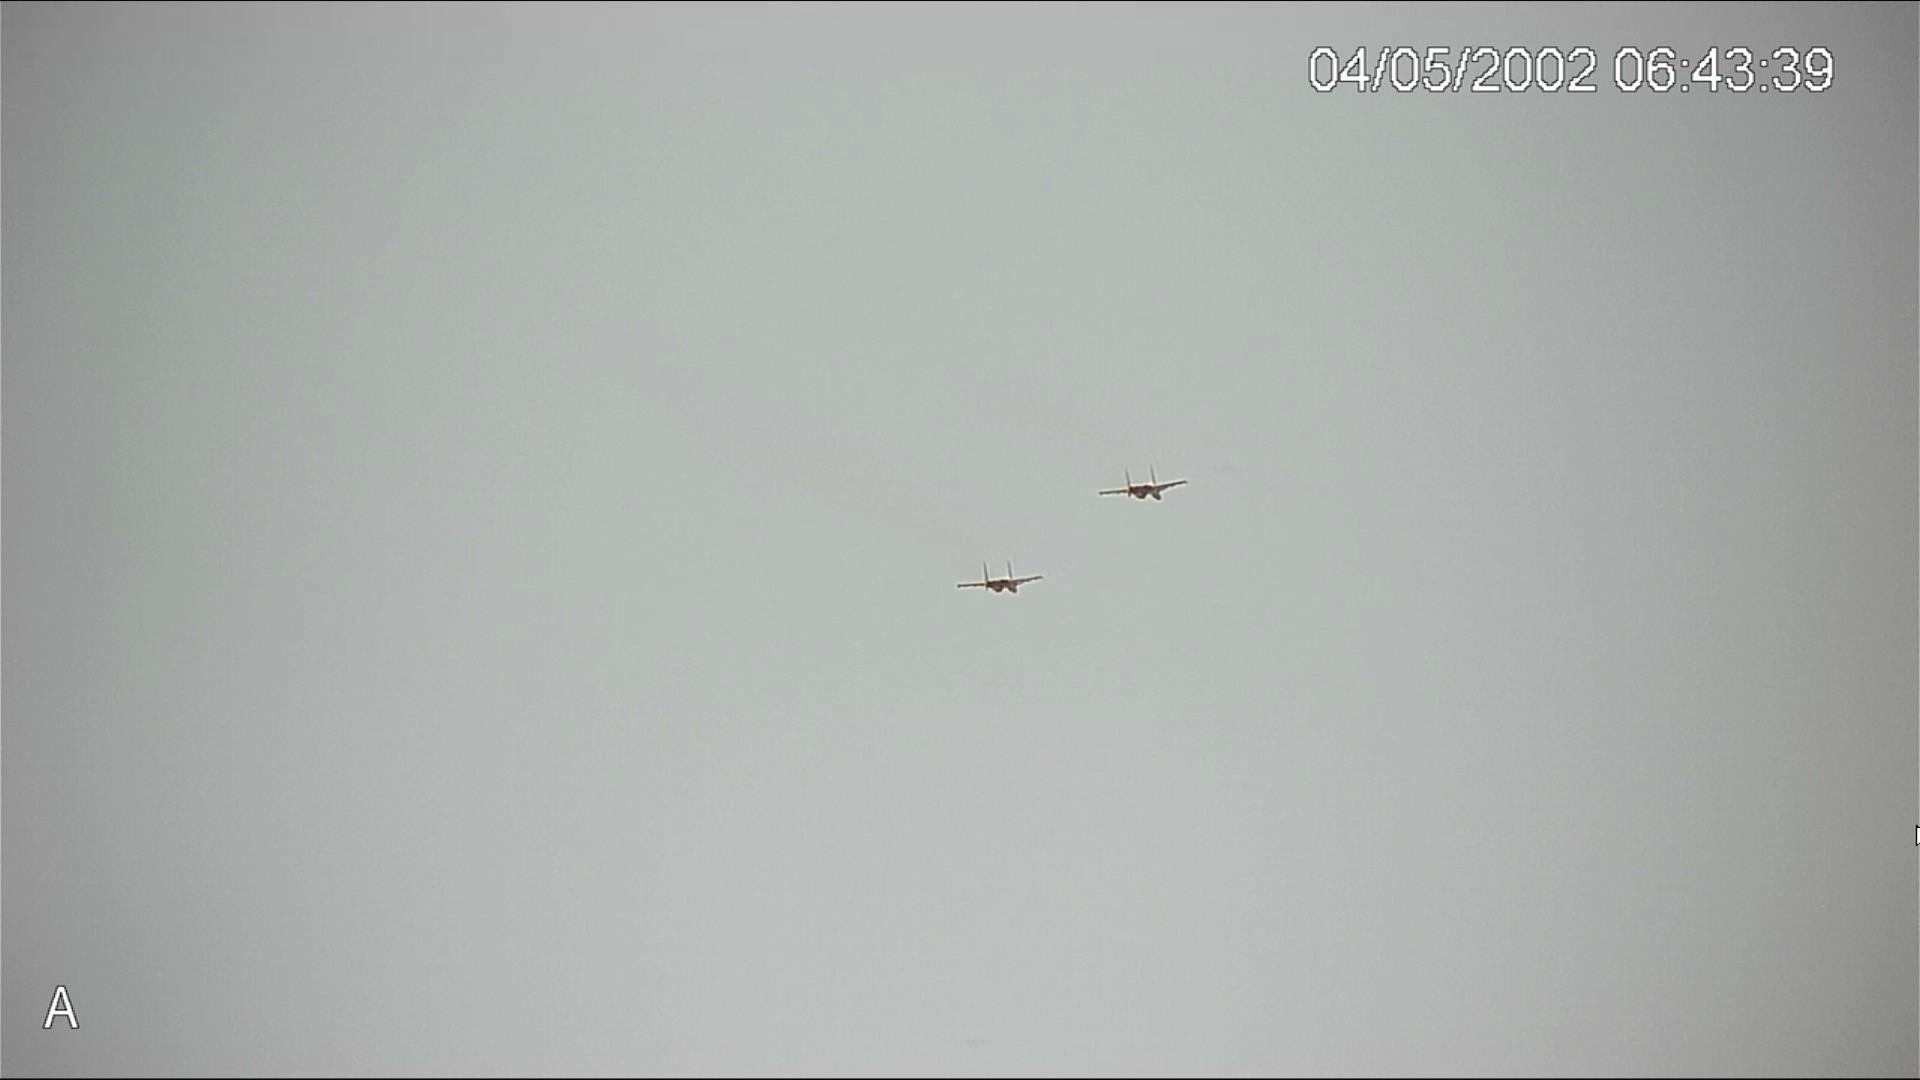SU_30: (1089, 454, 1197, 505), (949, 559, 1051, 596)
